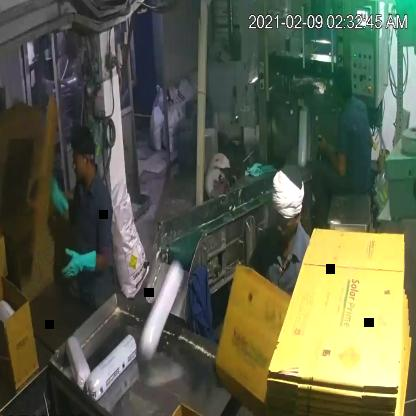glove: (47, 243, 107, 289), (36, 169, 81, 222)
no_glove: (315, 132, 350, 182)
